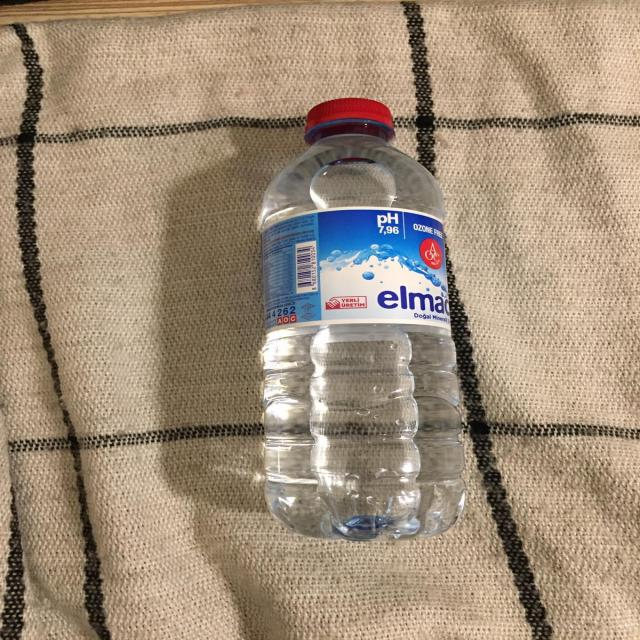bottle: (233, 78, 486, 564)
